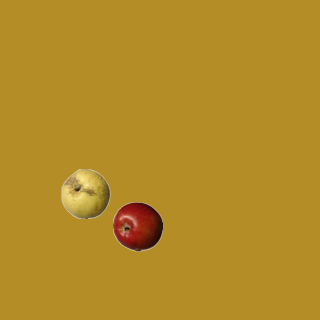Apple Braeburn: (112, 201, 162, 251)
Apple Golden 1: (60, 168, 110, 218)
